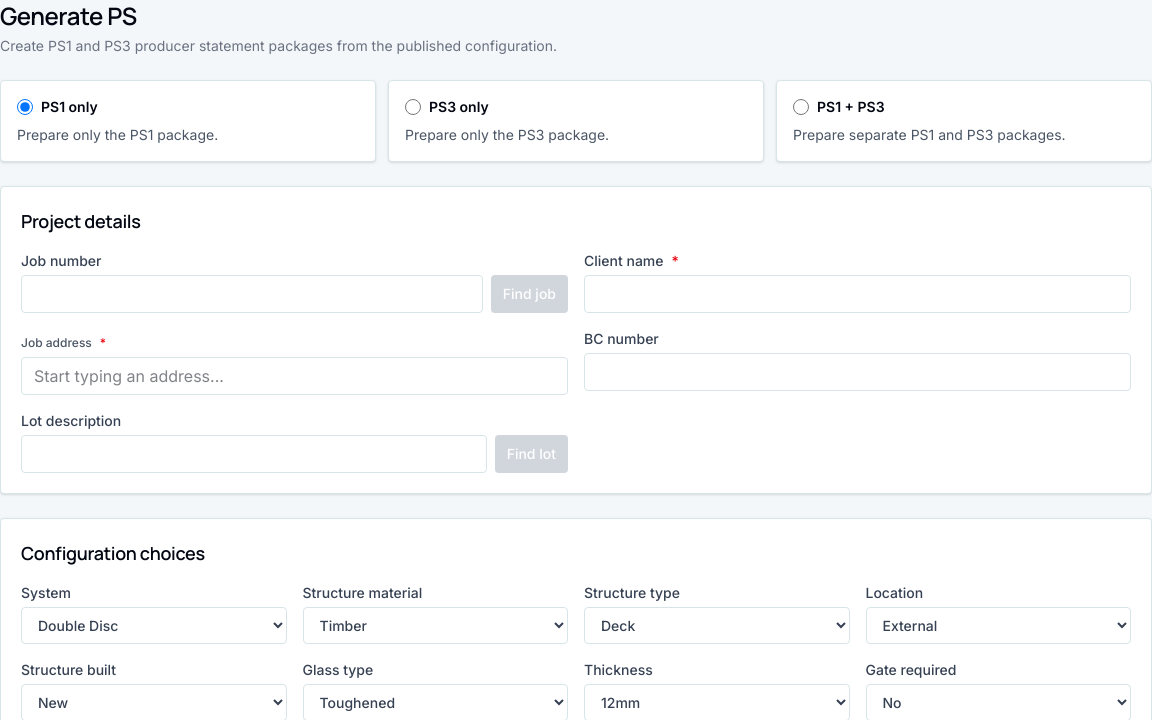
it: GeneratePsForm › submits generation requests and downloads generated PDFs immediately
The image size is (1152, 720).
In the field labelled "Client name": (858, 294) [584,275,1131,313], type "Jane Customer"
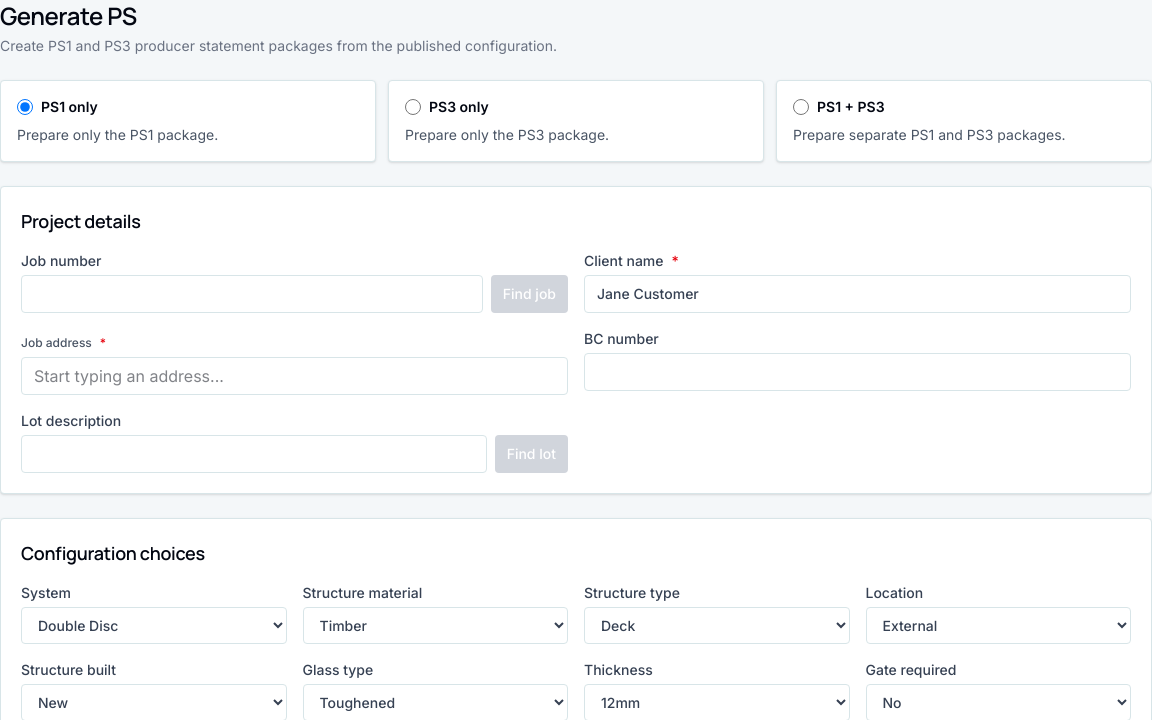
In the field labelled "Job address": (294, 376) [21,357,568,395], type "12 Glass Lane"
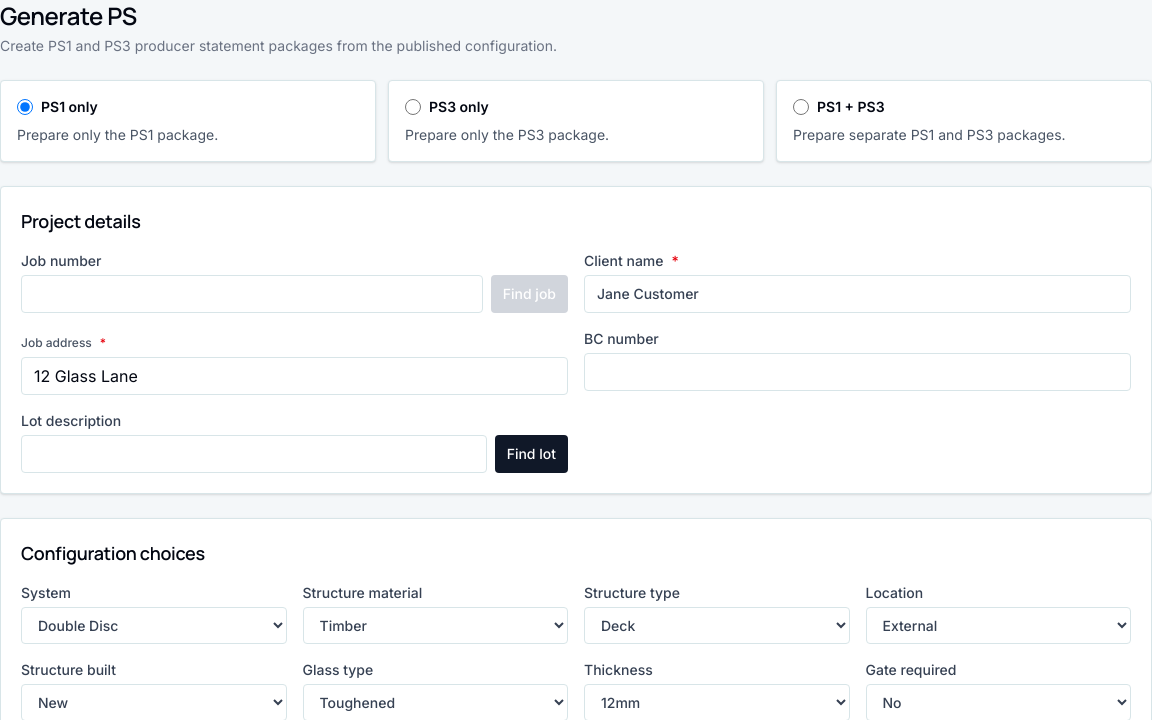
Click the radio button labelled "PS3 only": (413, 107) [405,99,421,115]
(page scrolled)
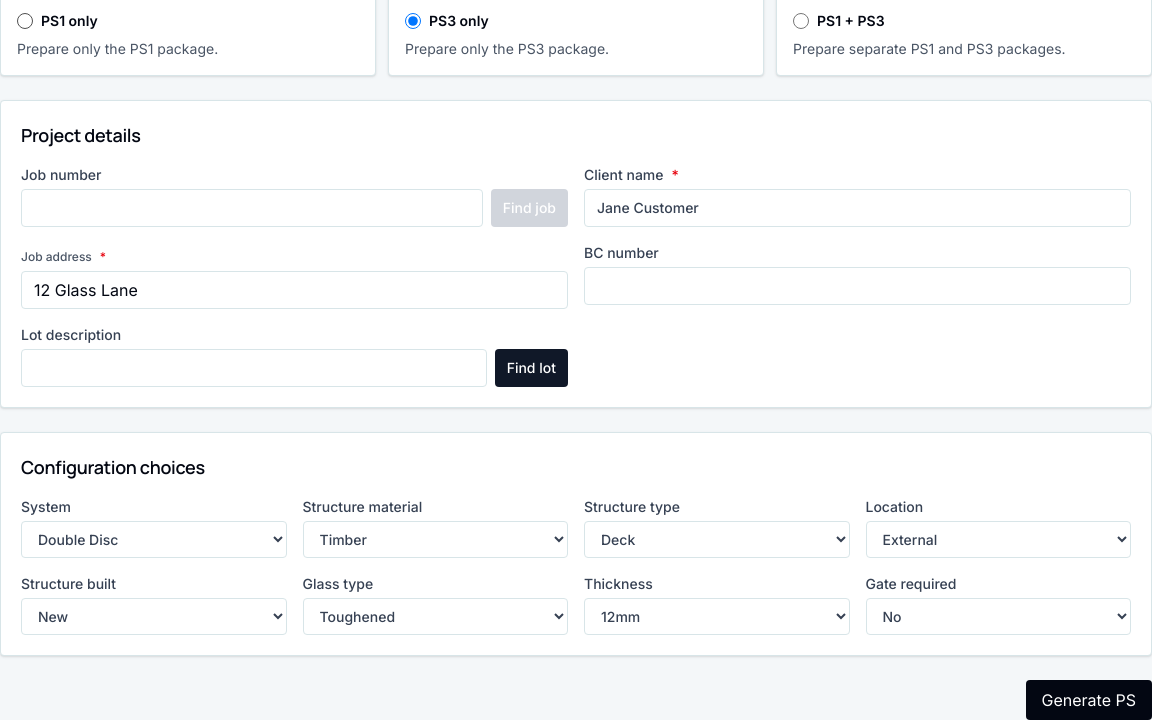
Click the button "Generate PS": (1089, 700) [1026,680,1151,719]
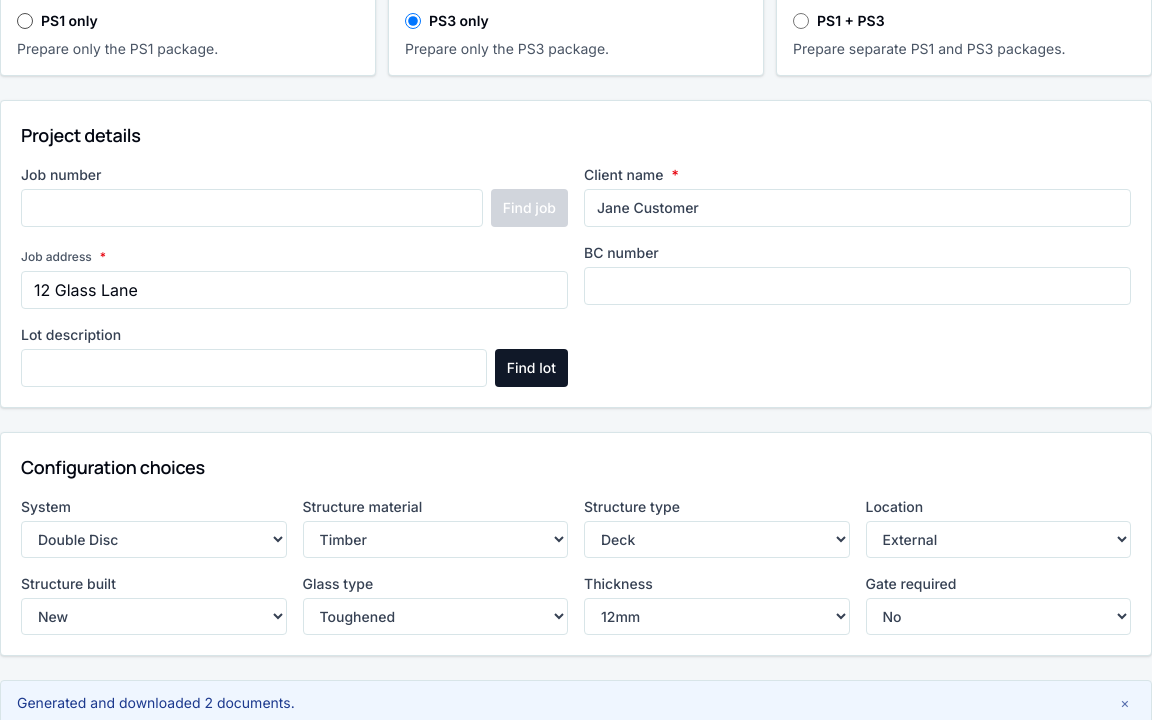
Now the text "Generated and downloaded 2 documents." is shown, box [17,694,295,711]
